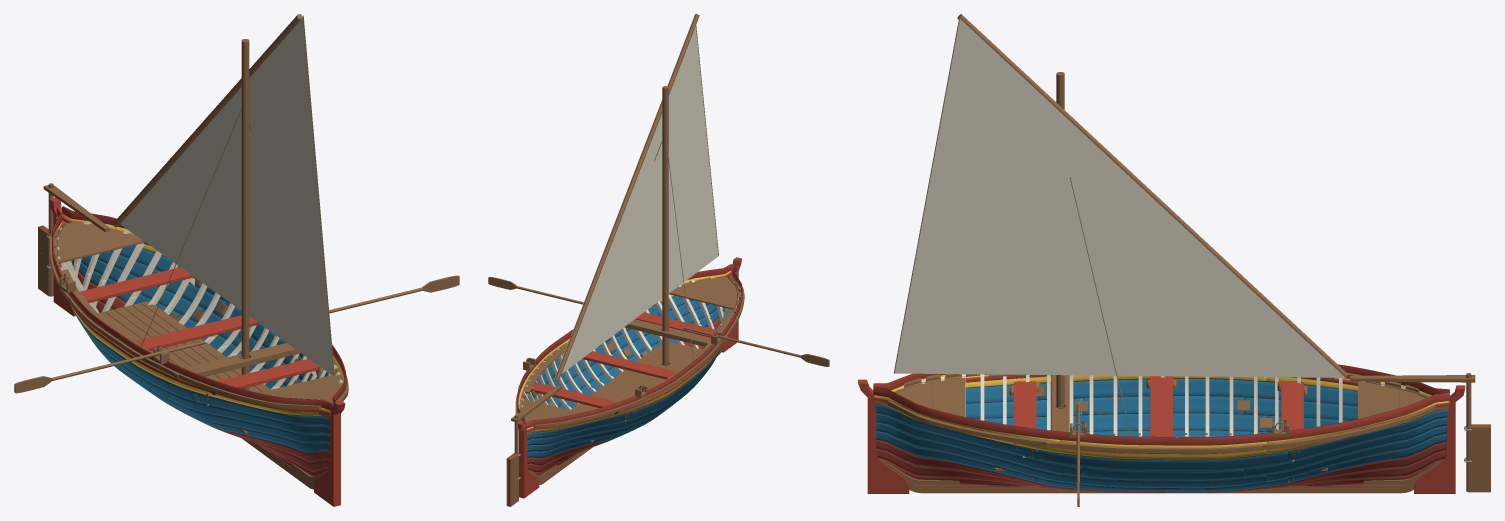
The model's file is gozzo-mobile.glb.
3 views of the same model, side by side, from view 1: azimuth 30°, elevation 25°; view 2: azimuth 150°, elevation 25°; view 3: azimuth 270°, elevation 25° (orthographic). The views are drawn at different scales.
Visible parts, largest first — view 1: sail-452, mast-450, washboards-74, yard-451, bow-post-5, thwarts-320, thwarts-333, mast-partners-447, planking-52, thwarts-346, planking-58, planking-38 (+28 smaller); view 2: sail-452, yard-451, mast-450, washboards-74, thwarts-333, stern-post-6, mast-partners-447, planking-50, thwarts-320, washboards-171, planking-56, planking-36 (+15 smaller); view 3: sail-452, washboards-171, planking-154, planking-57, keel-0, yard-451, planking-37, planking-51, bow-post-5, planking-149, sheer-strake-168, stern-post-6 (+32 smaller).
Boxes of the visible parts, x1,y1,x2,y2 form: sail-452: (120, 16, 333, 376); mast-450: (241, 39, 249, 390); washboards-74: (52, 207, 332, 410); yard-451: (113, 14, 302, 227); bow-post-5: (314, 400, 345, 506); thwarts-320: (80, 267, 194, 302); thwarts-333: (135, 315, 259, 350); mast-partners-447: (184, 343, 300, 376); planking-52: (168, 392, 329, 435); thwarts-346: (205, 358, 320, 396); planking-58: (191, 391, 329, 426); planking-38: (189, 409, 329, 443); sail-452: (554, 15, 718, 379); yard-451: (554, 14, 699, 381); mast-450: (662, 86, 668, 366); washboards-74: (525, 265, 742, 428); thwarts-333: (582, 351, 676, 379); stern-post-6: (518, 421, 539, 498); mast-partners-447: (624, 319, 710, 346); planking-50: (527, 411, 651, 445); thwarts-320: (531, 382, 627, 414); washboards-171: (517, 264, 732, 424); planking-56: (527, 411, 633, 440); planking-36: (527, 424, 633, 451); sail-452: (894, 19, 1345, 377); washboards-171: (873, 386, 1449, 445); planking-154: (1038, 450, 1287, 470); planking-57: (1038, 379, 1280, 399); keel-0: (921, 485, 1402, 493); yard-451: (957, 14, 1347, 378); planking-37: (1073, 413, 1266, 431); planking-51: (1081, 396, 1243, 414); bow-post-5: (858, 379, 909, 493); planking-149: (876, 413, 1081, 476); sheer-strake-168: (1060, 440, 1266, 459); stern-post-6: (1414, 385, 1465, 493).
Bounding box in the file's own units: 4.88 × 4.81 × 5.73.
